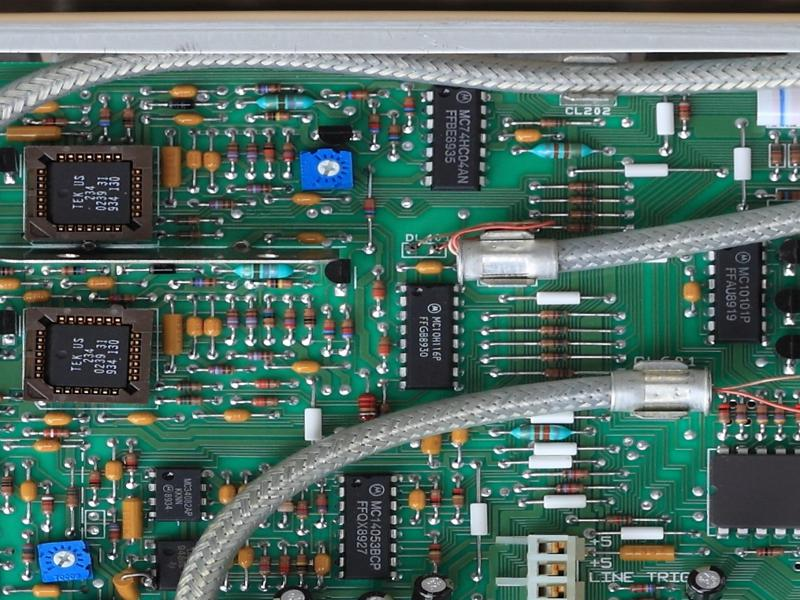Capacitor: (686, 565, 728, 600), (413, 574, 454, 600)
Diode: (142, 263, 182, 276), (161, 99, 198, 110)
Resistor: (525, 139, 599, 161), (505, 422, 579, 442), (230, 262, 298, 282), (253, 94, 318, 111), (357, 391, 378, 427), (555, 466, 594, 482), (63, 480, 81, 512), (427, 538, 445, 570), (536, 115, 572, 131), (40, 425, 74, 441), (39, 490, 57, 520), (105, 518, 123, 548), (313, 488, 331, 518), (259, 277, 300, 290), (540, 366, 578, 380), (564, 180, 602, 194), (251, 376, 284, 392), (280, 138, 297, 169), (376, 332, 393, 363), (242, 348, 277, 363), (427, 483, 443, 515), (371, 277, 388, 307), (536, 337, 575, 350), (536, 308, 575, 321), (602, 512, 638, 526), (205, 362, 238, 377), (537, 351, 575, 364), (537, 324, 575, 337), (123, 448, 140, 477), (277, 552, 294, 581), (550, 482, 591, 494), (338, 88, 373, 102), (241, 182, 278, 195), (361, 194, 378, 222), (106, 291, 140, 305), (243, 305, 260, 333), (301, 303, 318, 331), (566, 208, 600, 222), (172, 394, 208, 407), (562, 223, 598, 236), (387, 121, 403, 150), (754, 399, 770, 428), (755, 544, 788, 558), (340, 316, 357, 343), (87, 467, 104, 494), (564, 195, 602, 207), (768, 142, 786, 167), (170, 213, 204, 226), (57, 263, 91, 276), (187, 275, 221, 288), (248, 395, 282, 408), (772, 400, 787, 429), (225, 139, 241, 166), (733, 400, 749, 427), (172, 380, 205, 393), (322, 315, 337, 343), (258, 552, 273, 580), (450, 485, 465, 513), (207, 198, 239, 211), (402, 94, 418, 120), (262, 306, 278, 332), (20, 540, 36, 566), (628, 582, 660, 595), (677, 99, 693, 125), (295, 550, 309, 579), (295, 497, 310, 524), (252, 82, 283, 95), (121, 106, 137, 131), (367, 110, 381, 138), (1, 473, 15, 501), (283, 305, 298, 331), (718, 400, 731, 430), (263, 140, 277, 167), (226, 306, 240, 333), (260, 112, 294, 123), (174, 230, 205, 242), (245, 141, 260, 165), (38, 117, 72, 127), (99, 107, 112, 129)
